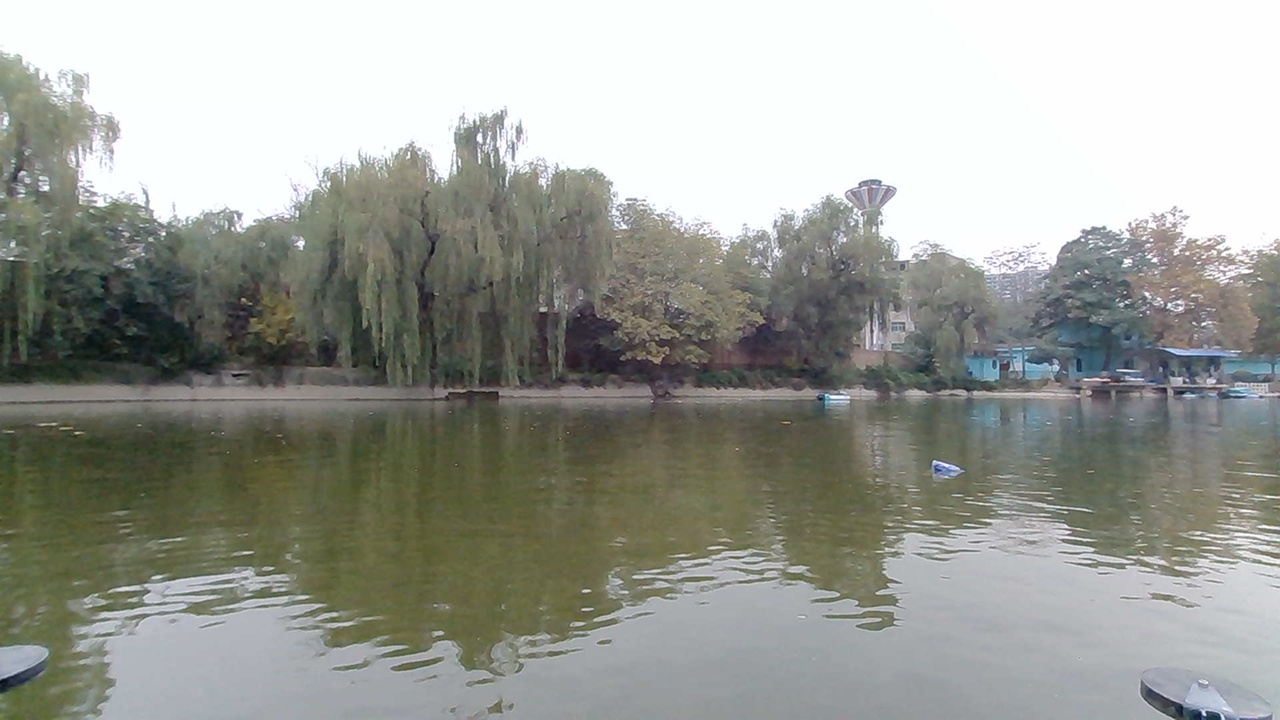bottle: (926, 454, 971, 488)
